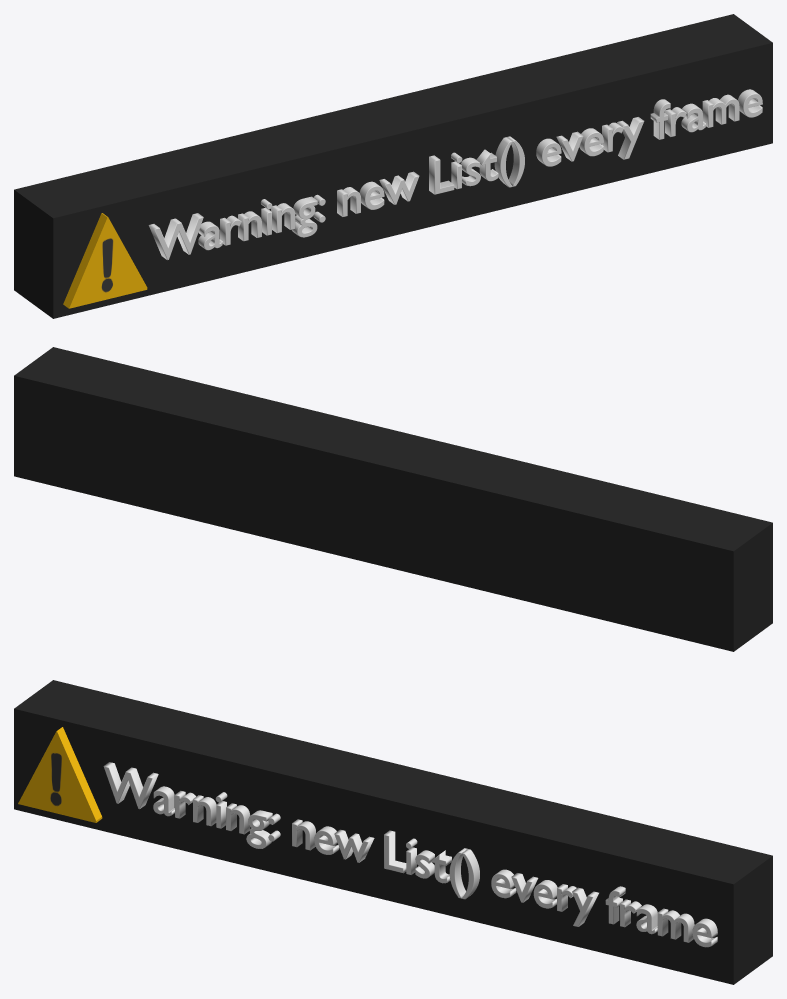
Rendered from Warning_ new List() every frame.fbx.
3 views of the same model, one above another, from view 1: azimuth 30°, elevation 25°; view 2: azimuth 150°, elevation 25°; view 3: azimuth 330°, elevation 25° (orthographic).
Parts seen in each view (by area): view 1: no1, Warning: new List() every frame; view 2: no1; view 3: no1, Warning: new List() every frame.
Part boxes in pixels (bbox=[...]): no1: bbox=[14, 14, 772, 318]; Warning: new List() every frame: bbox=[148, 89, 762, 260]; no1: bbox=[14, 347, 772, 651]; no1: bbox=[14, 680, 772, 984]; Warning: new List() every frame: bbox=[103, 762, 717, 947].
Bounding box in the file's own units: 2957 × 395 × 322.
